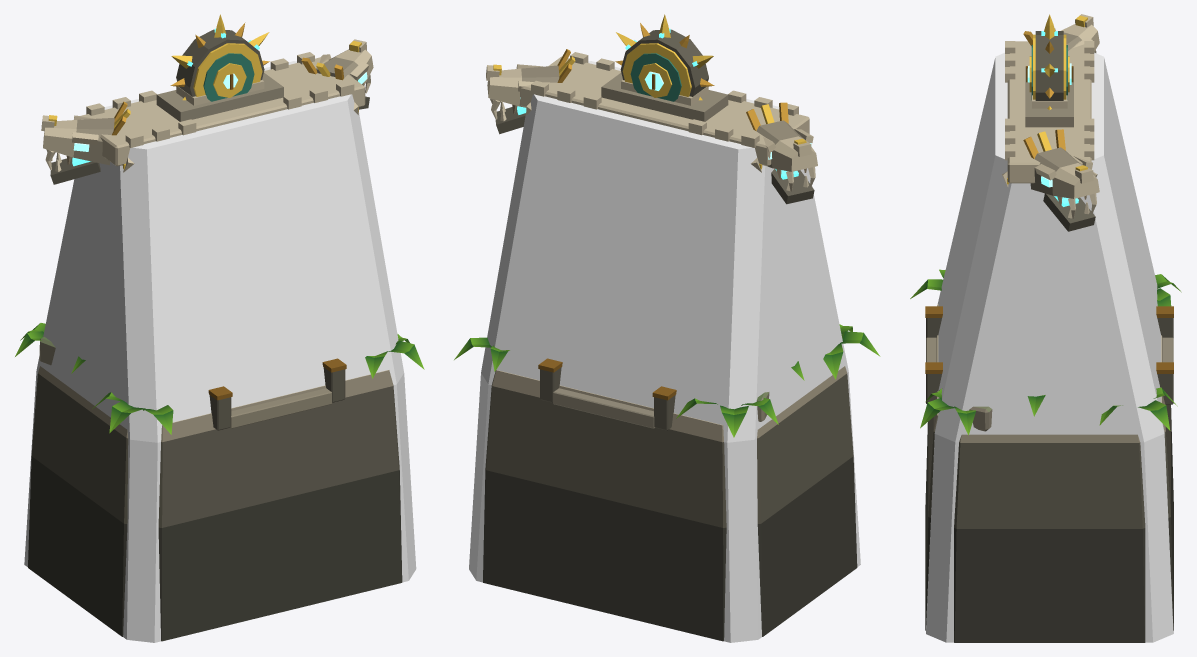
The model's file is ancient_sun_serpent_archway.glb.
3 views of the same model, side by side, from view 1: azimuth 30°, elevation 25°; view 2: azimuth 150°, elevation 25°; view 3: azimuth 270°, elevation 25° (orthographic).
Parts seen in each view (by area): view 1: col_sunarch_base, ancient_sun_serpent_archway; view 2: ancient_sun_serpent_archway, col_sunarch_base; view 3: col_sunarch_base, ancient_sun_serpent_archway.
Part boxes in pixels (x1,y1,x2,y2): col_sunarch_base: [24, 61, 416, 642]; ancient_sun_serpent_archway: [15, 14, 424, 641]; ancient_sun_serpent_archway: [454, 14, 880, 641]; col_sunarch_base: [469, 61, 860, 642]; col_sunarch_base: [926, 52, 1173, 642]; ancient_sun_serpent_archway: [910, 14, 1181, 642].
Size of the model in its own units: 6.03 by 9.64 by 4.29.
